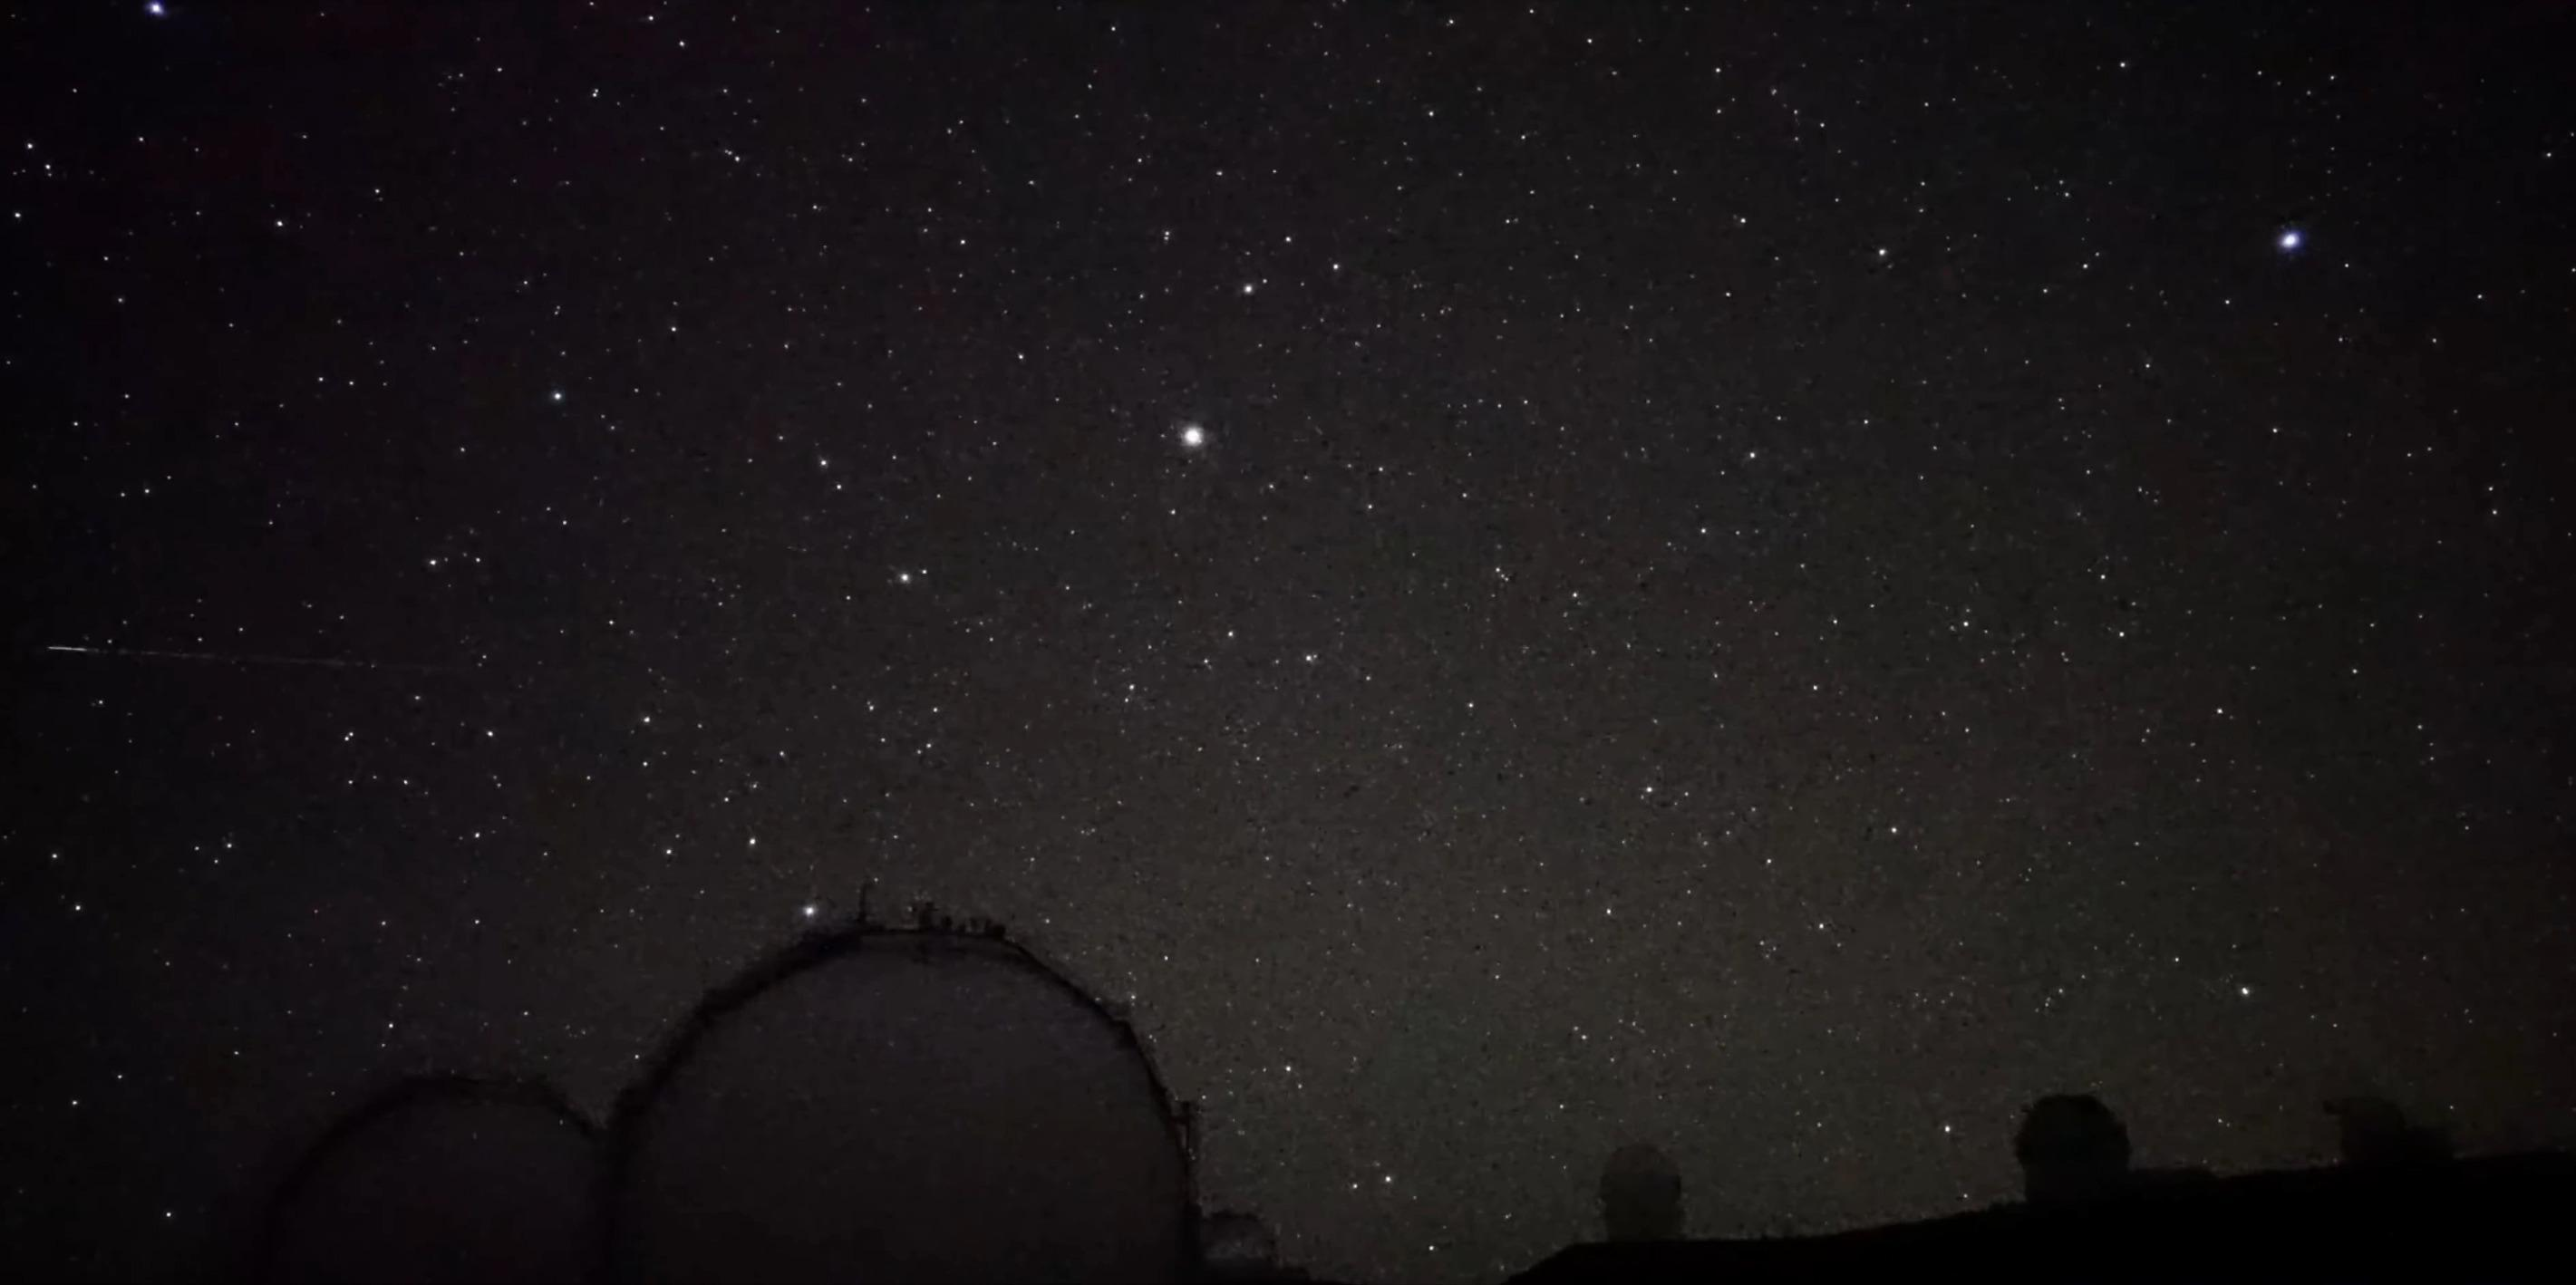meteorite: (25, 631, 465, 702)
